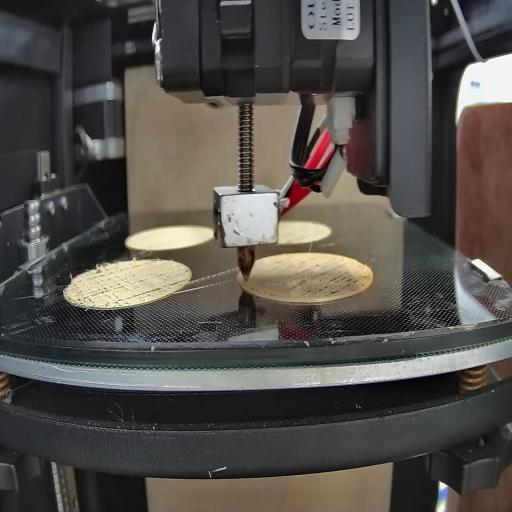under_extrusion: (68, 258, 164, 304), (276, 256, 365, 298), (166, 270, 190, 289)
